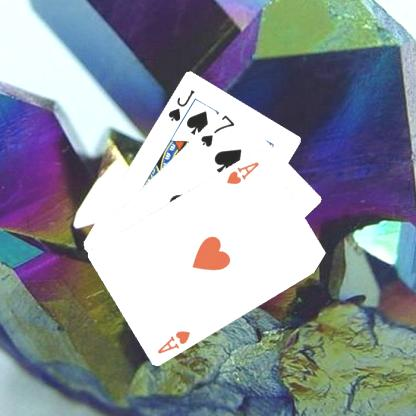7S: (198, 111, 236, 148)
AH: (154, 327, 192, 355), (223, 158, 261, 185)
JS: (165, 87, 196, 122)
